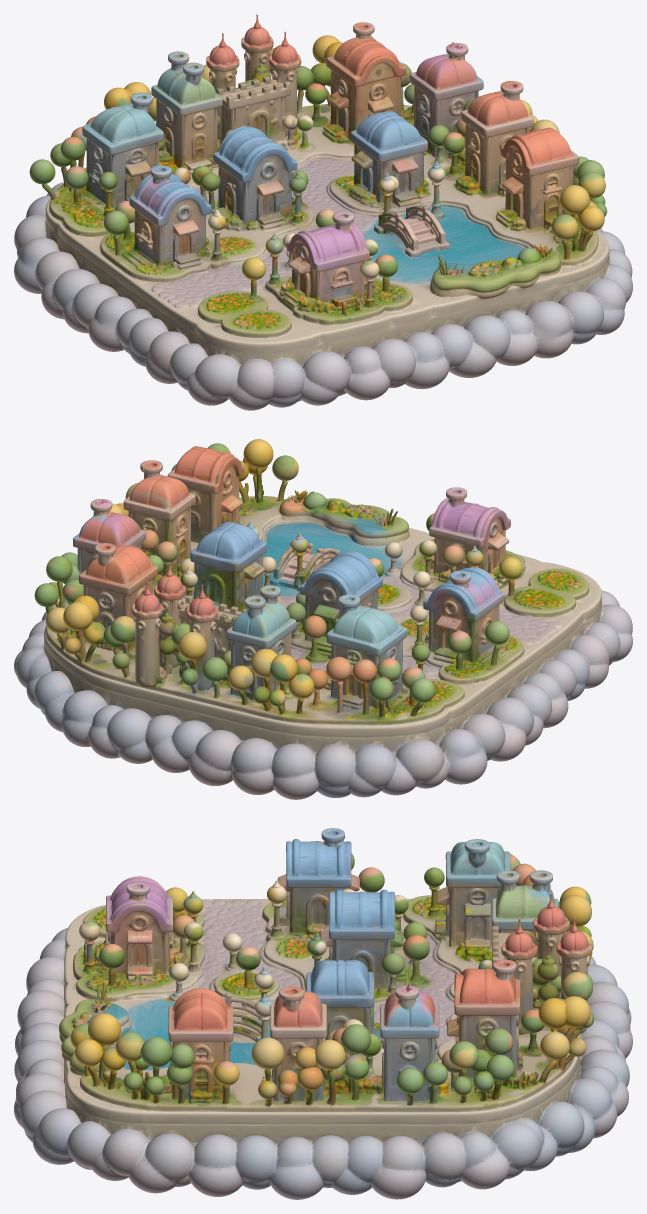
File: animation_town_3d.glb
3 views of the same model, one above another, from view 1: azimuth 30°, elevation 25°; view 2: azimuth 150°, elevation 25°; view 3: azimuth 270°, elevation 25° (orthographic). The views are drawn at different scales.
Parts seen in each view (by area): view 1: node_0; view 2: node_0; view 3: node_0.
Boxes of the visible parts, <box> form: node_0: <box>14,14,632,410</box>; node_0: <box>14,439,632,799</box>; node_0: <box>14,828,632,1199</box>.
Bounding box in the file's own units: 1.01 × 0.384 × 1.02.
1 material, 1 textured.
